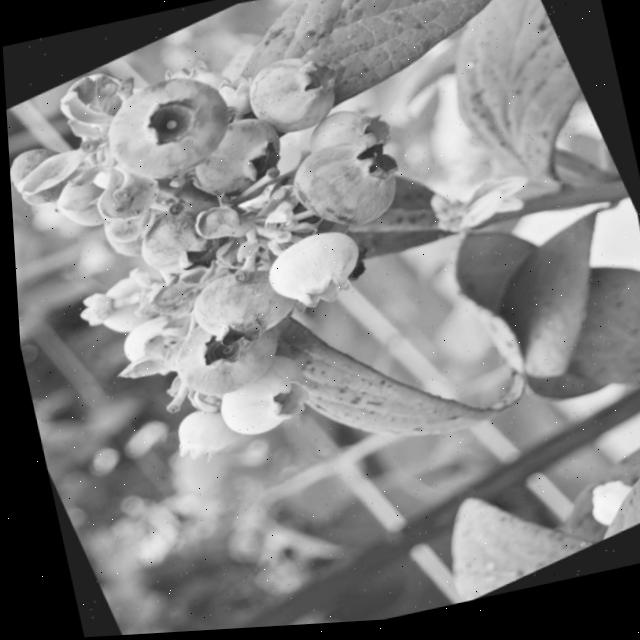RipeBlueBerry: (81, 47, 255, 205), (269, 115, 418, 255), (172, 100, 300, 212)
Semi-RipeBlueBerry: (151, 290, 298, 418), (227, 33, 358, 156), (173, 249, 299, 365), (118, 181, 244, 297)
UnripeBlueBerry: (194, 340, 328, 456), (247, 212, 379, 329)
